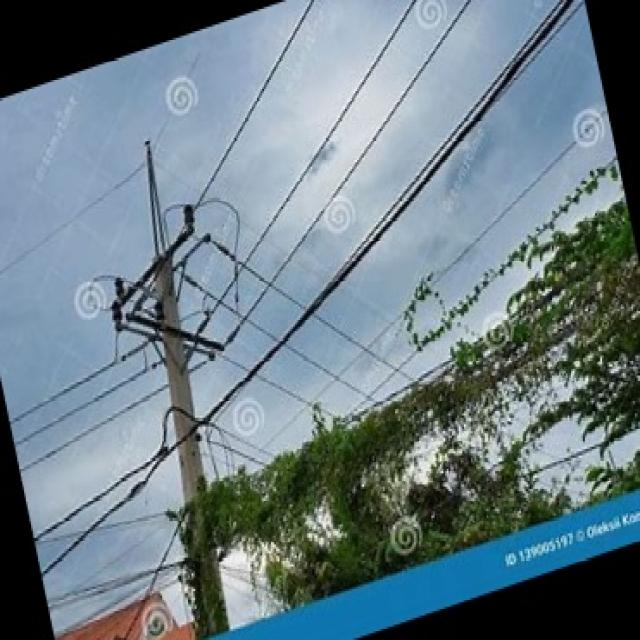critical vegetation: (192, 220, 638, 553)
